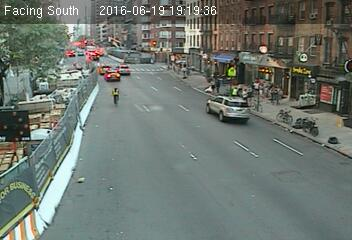neg: (107, 34, 119, 50), (75, 36, 84, 49), (159, 49, 168, 61)
pos: (107, 84, 123, 106), (211, 76, 224, 93), (242, 86, 251, 99), (254, 78, 263, 90), (231, 85, 239, 95)
